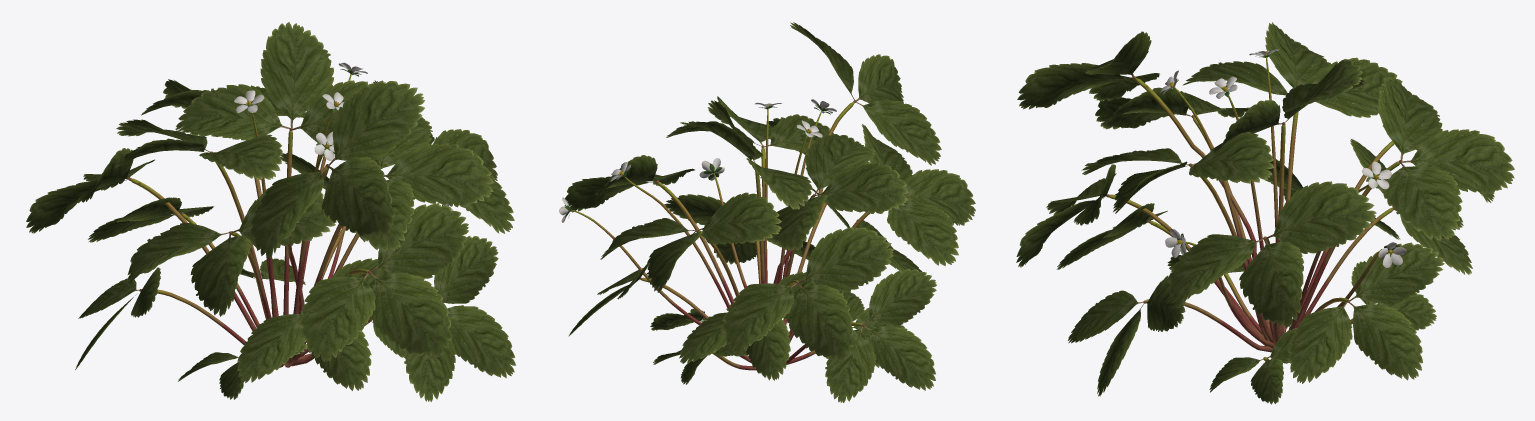
3 views of the same model, side by side, from view 1: azimuth 30°, elevation 25°; view 2: azimuth 150°, elevation 25°; view 3: azimuth 270°, elevation 25° (orthographic). The views are drawn at different scales.
Parts seen in each view (by area): view 1: leaf1, branch1, flower1; view 2: leaf1, branch1, flower1; view 3: leaf1, branch1, flower1.
Part boxes in pixels (<box>): leaf1: <box>26,22,515,401</box>; branch1: <box>128,74,371,367</box>; flower1: <box>234,62,452,210</box>; leaf1: <box>564,22,975,402</box>; branch1: <box>571,100,870,370</box>; flower1: <box>559,99,836,222</box>; leaf1: <box>1016,22,1514,404</box>; branch1: <box>1107,57,1402,361</box>; flower1: <box>1159,49,1406,267</box>.
Size of the model in its own units: 0.5922 by 0.6104 by 0.444.
